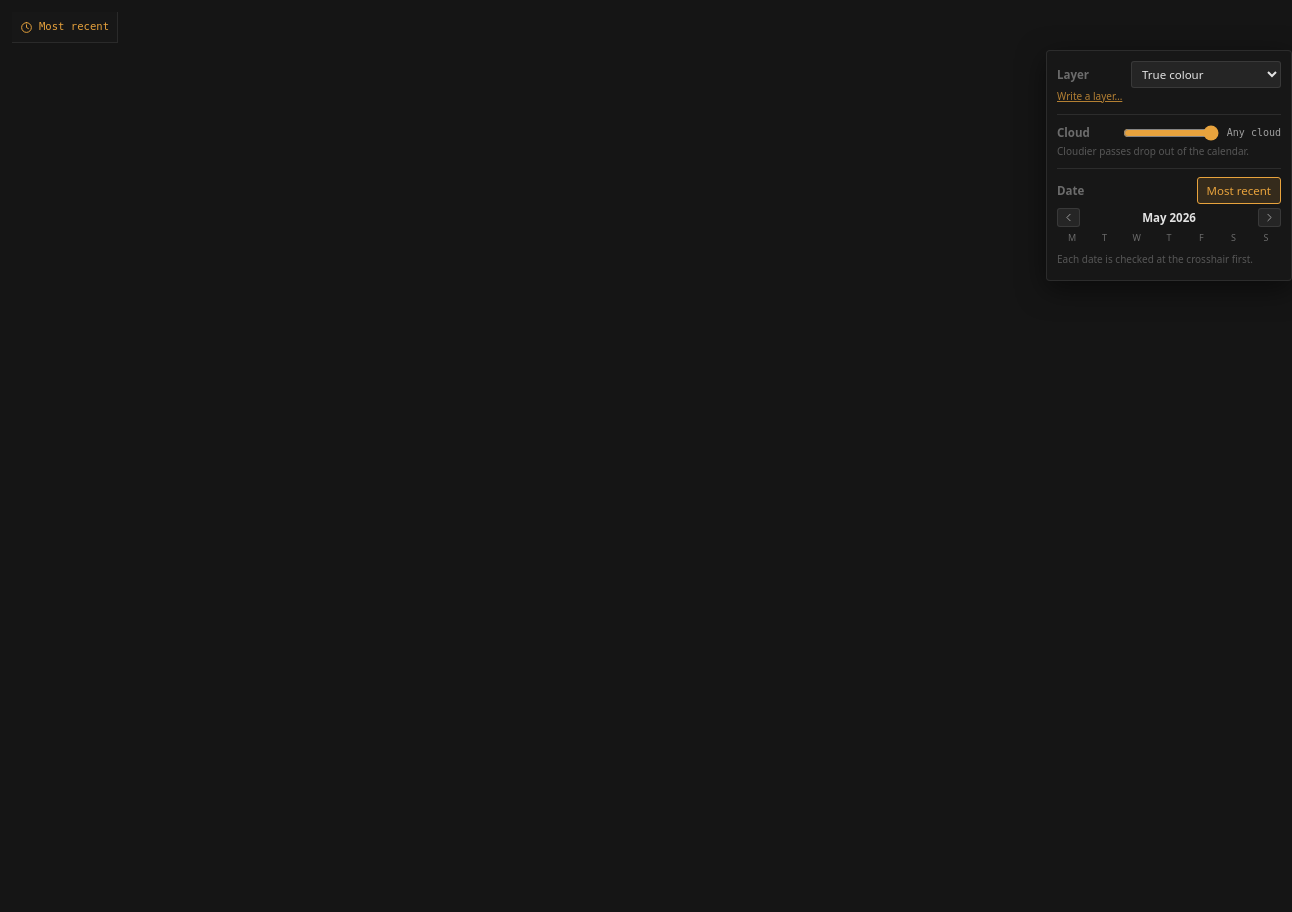
offers writing one, and reads the saved list only when asked
What coordinates should you click on to do the following:
click the button "Write a layer…"
I would click on:
 (1090, 97)
Its box is top-left (1057, 90), bottom-right (1122, 104).
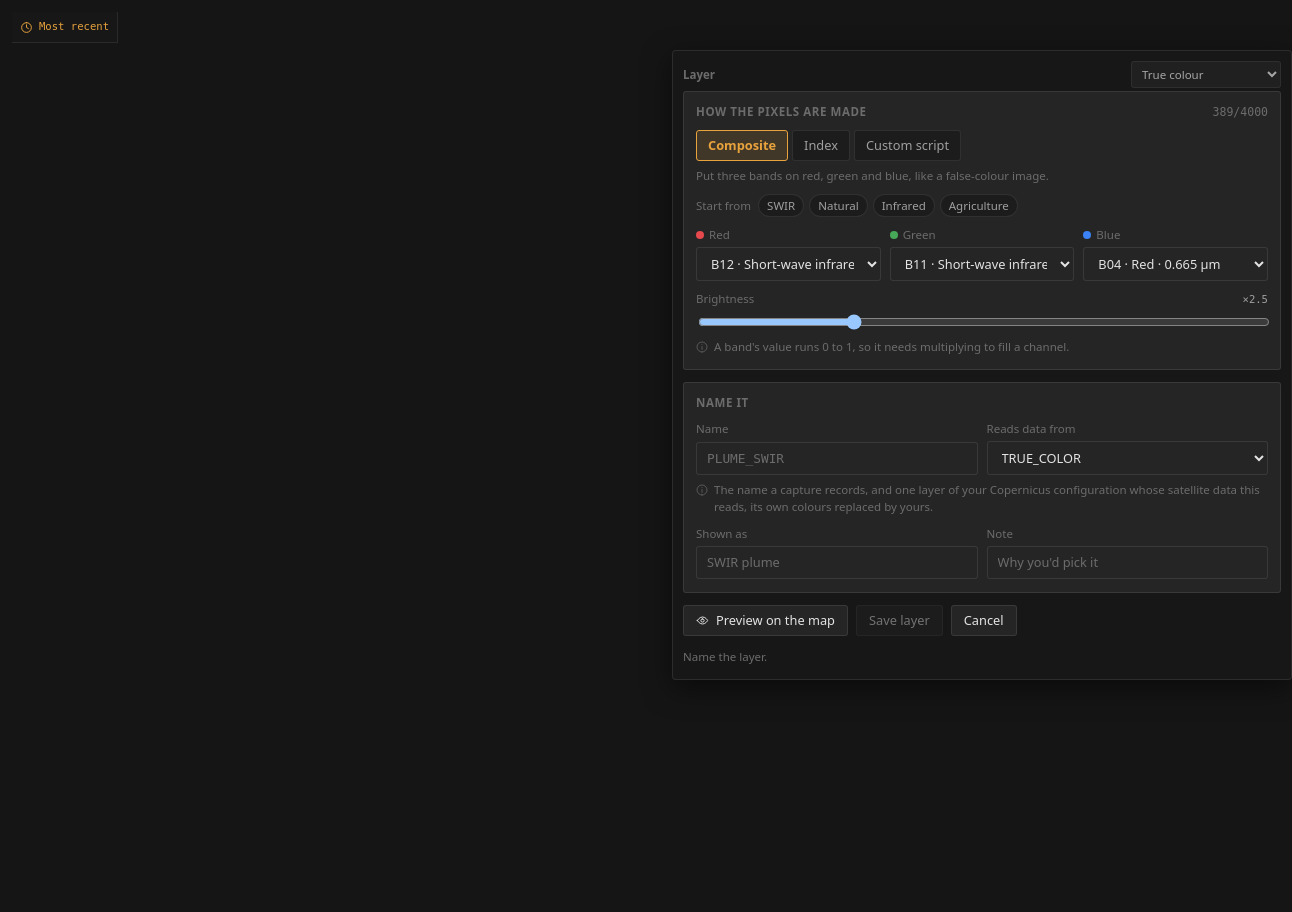
Expected: the dropdown named "Red band" is shown, top-left (696, 247), bottom-right (881, 281)
